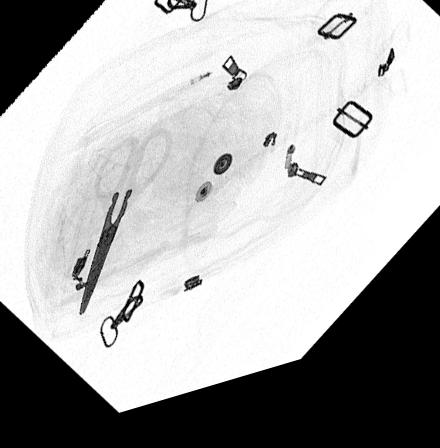Scissors: (77, 139, 172, 319)
